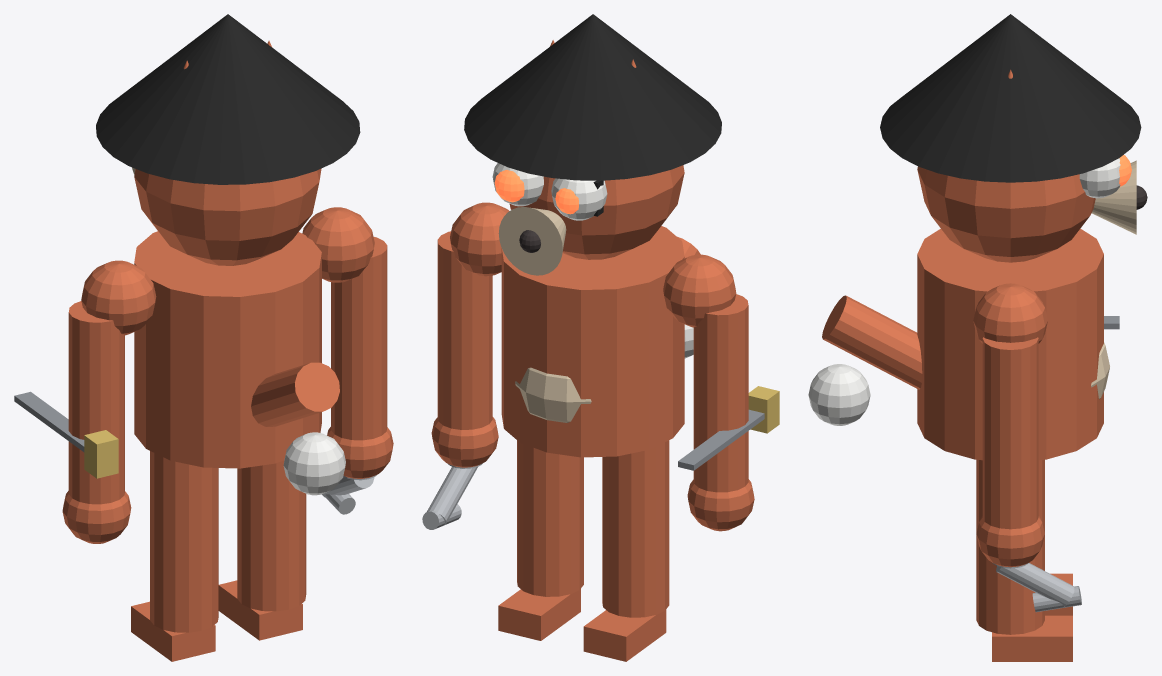
The model's file is felix.glb.
3 views of the same model, side by side, from view 1: azimuth 30°, elevation 25°; view 2: azimuth 150°, elevation 25°; view 3: azimuth 270°, elevation 25° (orthographic). The views are drawn at different scales.
Visible parts, largest first — view 1: Felix_Torso, Felix_Hat, Felix_Head, Felix_Leg_L, Felix_Arm_R, Felix_Leg_R, Felix_Arm_L, Felix_Tail, Felix_Shoulder_L, Felix_Shoulder_R, Felix_TailTip, Felix_Hand_L (+5 smaller); view 2: Felix_Torso, Felix_Hat, Felix_Leg_L, Felix_Leg_R, Felix_Arm_R, Felix_Arm_L, Felix_Head, Felix_Shoulder_L, Felix_Snout, Felix_Shoulder_R, Felix_Foot_L, Felix_Foot_R (+9 smaller); view 3: Felix_Hat, Felix_Torso, Felix_Head, Felix_Arm_R, Felix_Tail, Felix_Leg_R, Felix_Shoulder_R, Felix_TailTip, Felix_Foot_R, Felix_Hand_R, Felix_Snout, Felix_Hook (+3 smaller).
Boxes of the visible parts, bbox=[...] form: Felix_Torso: bbox=[134, 231, 321, 468]; Felix_Hat: bbox=[96, 14, 360, 184]; Felix_Head: bbox=[134, 168, 321, 265]; Felix_Leg_L: bbox=[150, 451, 218, 632]; Felix_Arm_R: bbox=[331, 237, 387, 440]; Felix_Leg_R: bbox=[237, 460, 306, 611]; Felix_Arm_L: bbox=[68, 301, 124, 504]; Felix_Tail: bbox=[251, 362, 339, 426]; Felix_Shoulder_L: bbox=[81, 260, 156, 335]; Felix_Shoulder_R: bbox=[302, 207, 374, 282]; Felix_TailTip: bbox=[283, 432, 345, 495]; Felix_Hand_L: bbox=[62, 491, 131, 543]; Felix_Torso: bbox=[501, 226, 684, 457]; Felix_Hat: bbox=[464, 14, 721, 180]; Felix_Leg_L: bbox=[602, 440, 669, 617]; Felix_Leg_R: bbox=[517, 440, 583, 596]; Felix_Arm_R: bbox=[437, 231, 492, 429]; Felix_Arm_L: bbox=[693, 294, 748, 492]; Felix_Head: bbox=[509, 165, 684, 259]; Felix_Shoulder_L: bbox=[663, 254, 736, 327]; Felix_Snout: bbox=[498, 207, 566, 275]; Felix_Shoulder_R: bbox=[450, 202, 509, 276]; Felix_Foot_L: bbox=[583, 609, 666, 661]; Felix_Foot_R: bbox=[498, 589, 580, 640]; Felix_Hat: bbox=[880, 14, 1141, 182]; Felix_Torso: bbox=[917, 228, 1103, 460]; Felix_Head: bbox=[917, 166, 1095, 262]; Felix_Arm_R: bbox=[982, 337, 1038, 529]; Felix_Tail: bbox=[822, 295, 922, 389]; Felix_Leg_R: bbox=[976, 459, 1044, 634]; Felix_Shoulder_R: bbox=[973, 283, 1047, 343]; Felix_TailTip: bbox=[808, 364, 870, 425]; Felix_Foot_R: bbox=[992, 615, 1072, 661]; Felix_Hand_R: bbox=[976, 516, 1044, 567]; Felix_Snout: bbox=[1092, 160, 1136, 234]; Felix_Hook: bbox=[996, 563, 1074, 606].
Size of the model in its own units: 1.18 by 2.19 by 1.09.
